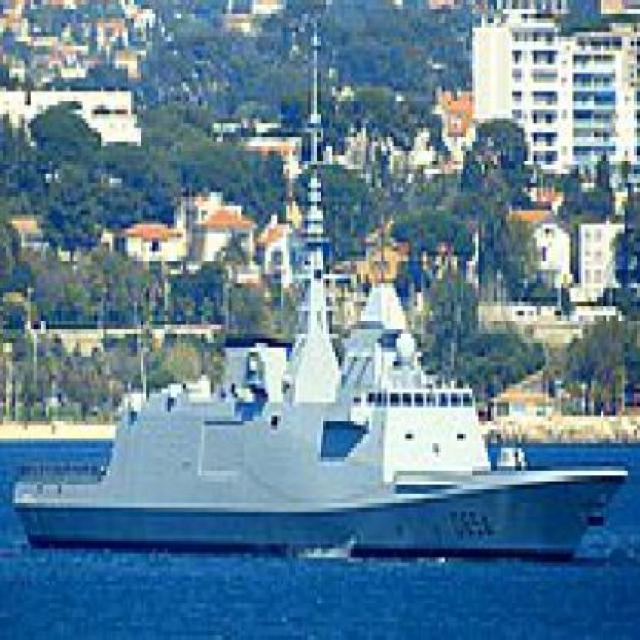warship2: (16, 151, 629, 577)
